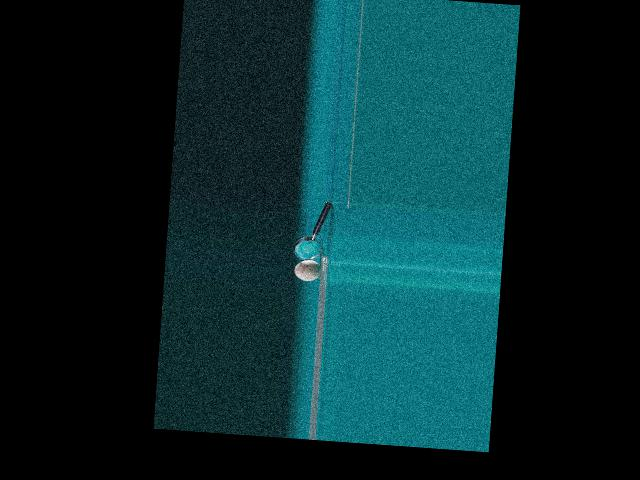egg: (293, 259, 322, 282)
